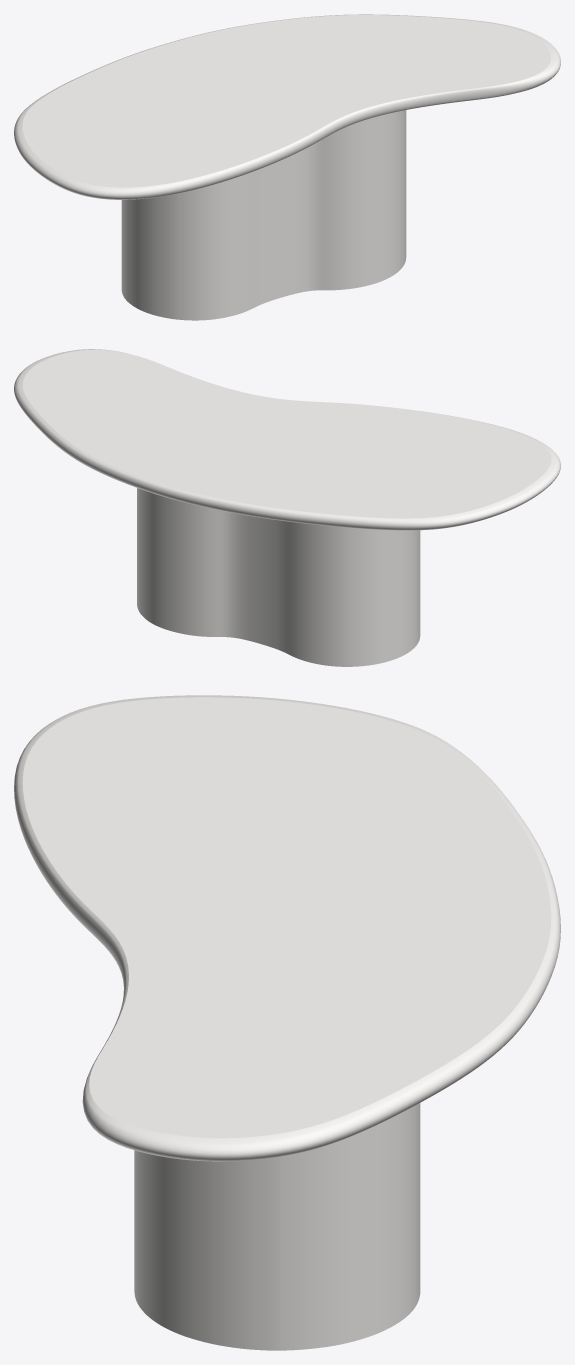
File: purewhite_leaf1_round_riverwave.glb
3 renders of one model, top to bottom at view 1: azimuth 30°, elevation 25°; view 2: azimuth 150°, elevation 25°; view 3: azimuth 270°, elevation 25°, orthographic. The views are drawn at different scales.
Parts seen in each view (by area): view 1: round_leaf1, riverwave; view 2: round_leaf1, riverwave; view 3: round_leaf1, riverwave.
Part boxes in pixels (x1,y1,x2,y2): round_leaf1: [14, 14, 560, 199]; riverwave: [121, 110, 406, 320]; round_leaf1: [14, 349, 560, 530]; riverwave: [137, 488, 420, 666]; round_leaf1: [14, 695, 560, 1161]; riverwave: [134, 1103, 420, 1350].
Bounding box in the file's own units: 7.5 × 2.51 × 3.8.
Materials: 1 (1 with a texture image).
